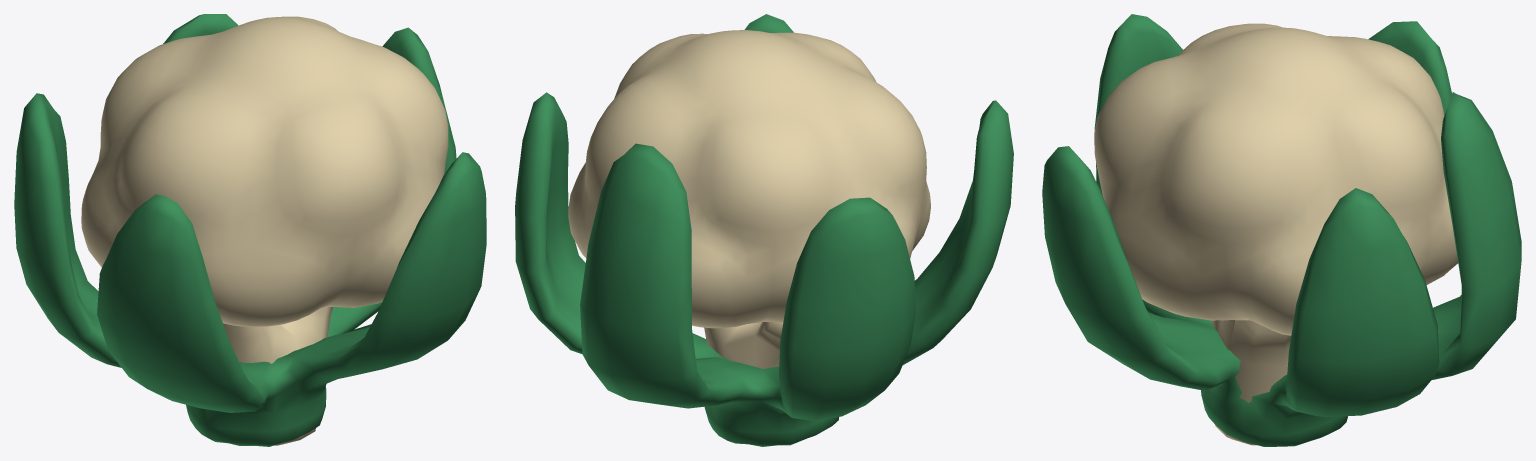
Rendered from Cauliflower_05.dae.
3 views of the same model, side by side, from view 1: azimuth 30°, elevation 25°; view 2: azimuth 150°, elevation 25°; view 3: azimuth 270°, elevation 25° (orthographic). The views are drawn at different scales.
Visible parts, largest first — view 1: Cauliflower_05_LOD0; view 2: Cauliflower_05_LOD0; view 3: Cauliflower_05_LOD0.
Boxes of the visible parts, x1,y1,x2,y2 form: Cauliflower_05_LOD0: [14, 14, 486, 446]; Cauliflower_05_LOD0: [515, 14, 1013, 446]; Cauliflower_05_LOD0: [1042, 14, 1521, 446].
Size of what is drawn, in the model's own units: 6.49 by 6.39 by 5.89.
